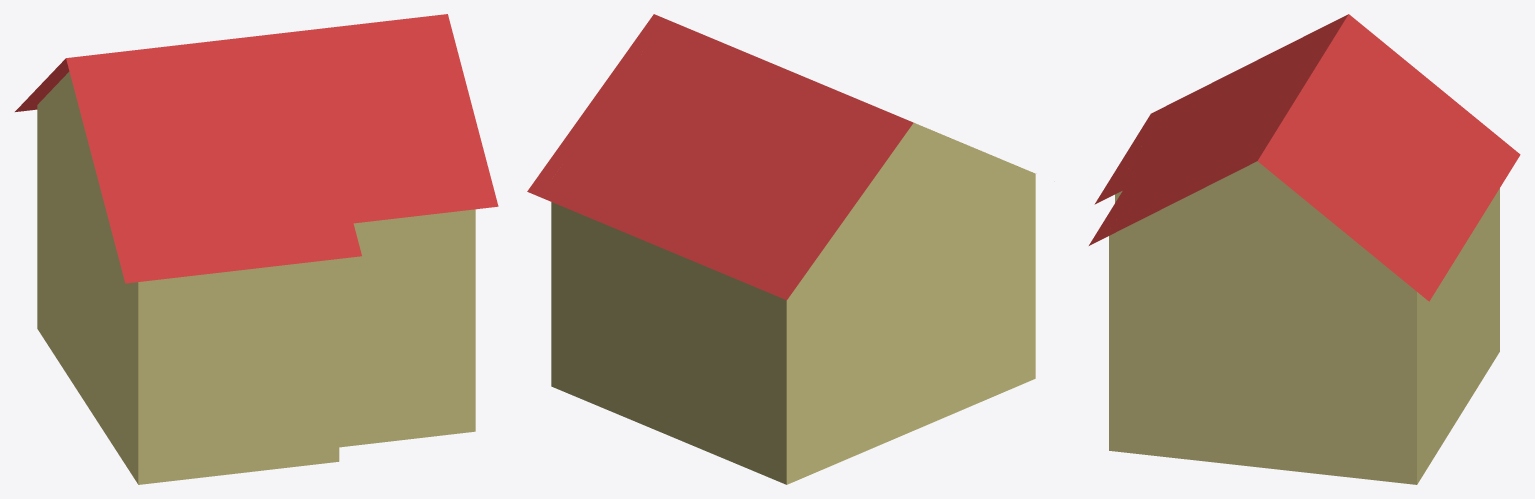
3 views of the same model, side by side, from view 1: azimuth 30°, elevation 25°; view 2: azimuth 150°, elevation 25°; view 3: azimuth 270°, elevation 25° (orthographic). The views are drawn at different scales.
Size of the model in its own units: 13.1 by 12.72 by 10.18.
